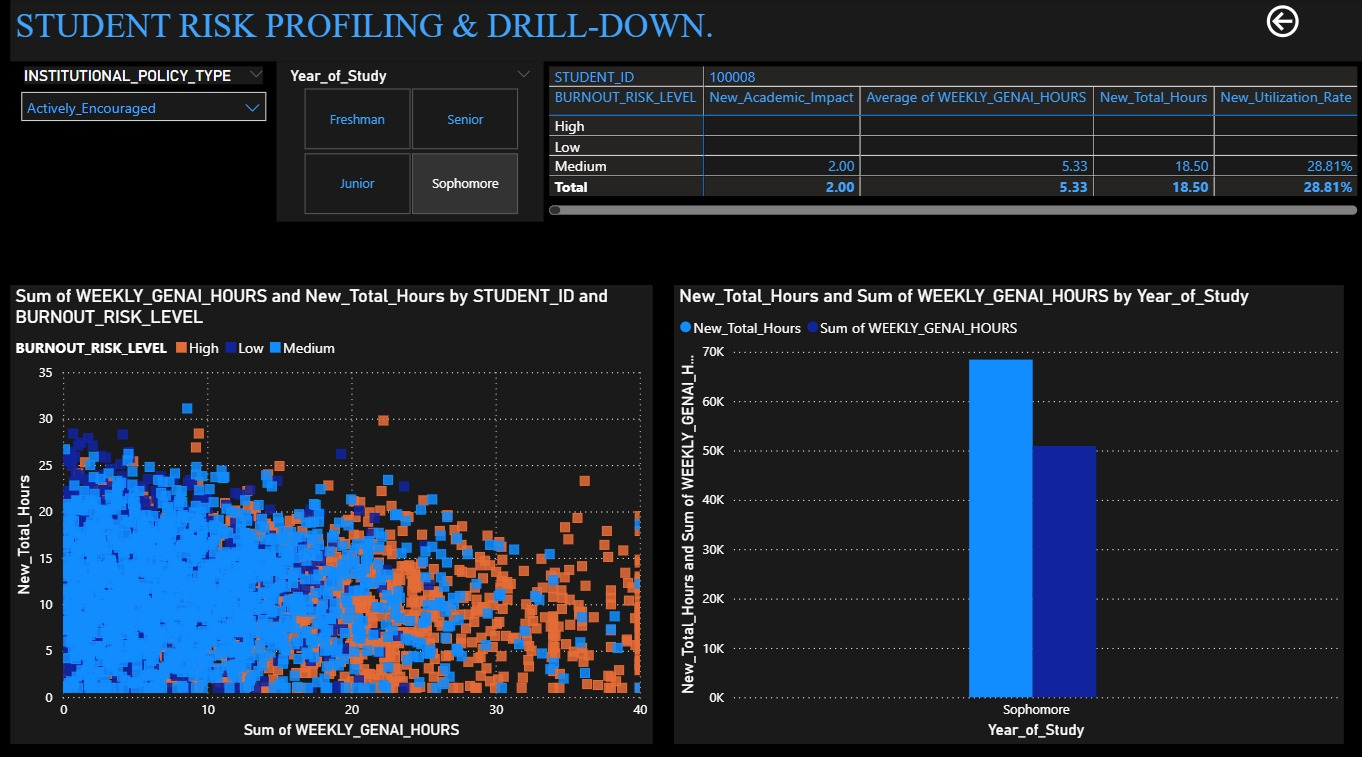

Layout of this report page (visuals, bound fields, positions):
{"tool":"powerbi","page":{"name":"Page 3","canvas":[1280,720],"ordinal":3},"visuals":[{"type":"textbox","box":[10.5,0,1269.2,57.4],"z":0},{"type":"actionButton","box":[1183.6,0,48,39.8],"z":1000},{"type":"slicer","fields":{"Values":["FACT_STUDENT_IMPACT.INSTITUTIONAL_POLICY_TYPE"]},"box":[10.5,57.4,249.6,150],"z":2000},{"type":"slicer","fields":{"Values":["Dim_Cohort.Year_of_Study"]},"box":[260.2,57.4,250.8,150],"z":3000},{"type":"pivotTable","fields":{"Rows":["FACT_STUDENT_IMPACT.BURNOUT_RISK_LEVEL"],"Columns":["FACT_STUDENT_IMPACT.STUDENT_ID"],"Values":["Dim_Cohort.New_Academic_Impact","Avg(FACT_STUDENT_IMPACT.WEEKLY_GENAI_HOURS)","Dim_Cohort.New_Total_Hours","Dim_Cohort.New_Utilization_Rate"]},"box":[511,57.1,767.4,149.3],"z":4000},{"type":"scatterChart","fields":{"X":["Sum(FACT_STUDENT_IMPACT.WEEKLY_GENAI_HOURS)"],"Y":["Dim_Cohort.New_Total_Hours"],"Series":["FACT_STUDENT_IMPACT.BURNOUT_RISK_LEVEL"],"Category":["FACT_STUDENT_IMPACT.STUDENT_ID"]},"box":[10.5,267.2,602.4,430.1],"z":5000},{"type":"clusteredColumnChart","fields":{"Category":["Dim_Cohort.Year_of_Study"],"Y":["Dim_Cohort.New_Total_Hours","Sum(FACT_STUDENT_IMPACT.WEEKLY_GENAI_HOURS)"]},"box":[633.1,266.9,627.8,430.2],"z":6000}]}

Visuals, with their boxes in screenshot pixels (x1, y1, x2, y2), scaled from the page's 1280x720 canvas onto the 1362x757 screenshot:
textbox: left=11, top=0, right=1361, bottom=60
actionButton: left=1259, top=0, right=1310, bottom=42
slicer - FACT_STUDENT_IMPACT.INSTITUTIONAL_POLICY_TYPE: left=11, top=60, right=277, bottom=218
slicer - Dim_Cohort.Year_of_Study: left=277, top=60, right=544, bottom=218
pivotTable - FACT_STUDENT_IMPACT.BURNOUT_RISK_LEVEL x FACT_STUDENT_IMPACT.STUDENT_ID: left=544, top=60, right=1360, bottom=217
scatterChart - Sum(FACT_STUDENT_IMPACT.WEEKLY_GENAI_HOURS) x Dim_Cohort.New_Total_Hours: left=11, top=281, right=652, bottom=733
clusteredColumnChart - Dim_Cohort.Year_of_Study x Dim_Cohort.New_Total_Hours: left=674, top=281, right=1342, bottom=733
